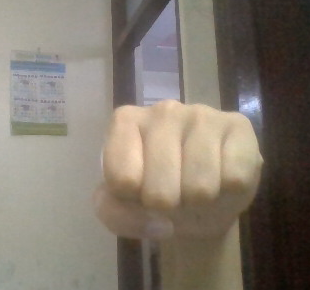click: (83, 90, 286, 241)
